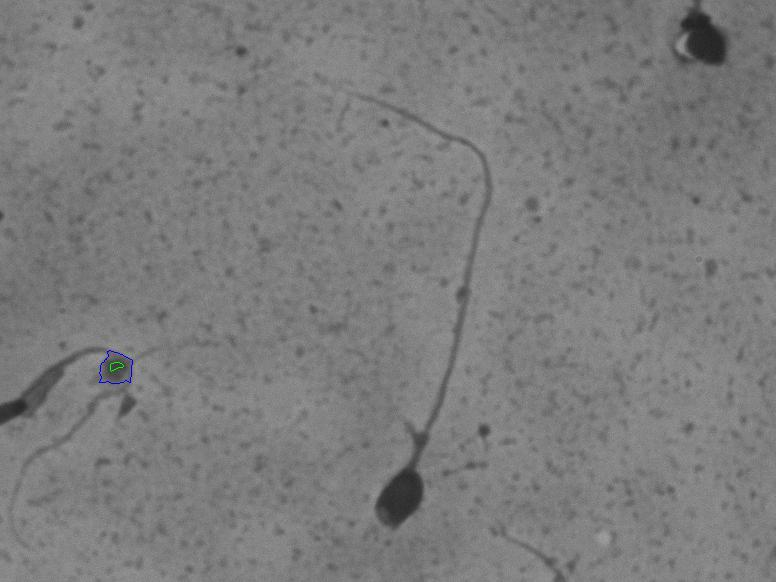Abnormal: (324, 61, 512, 549)
